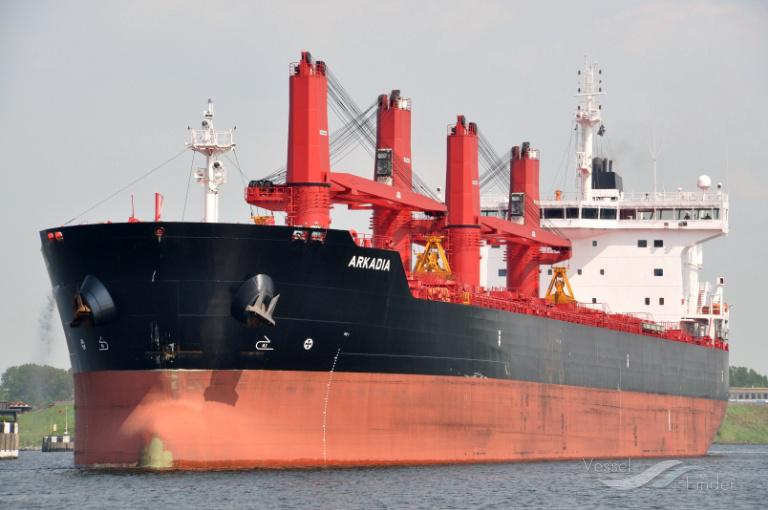OCR: (345, 247, 397, 276)
